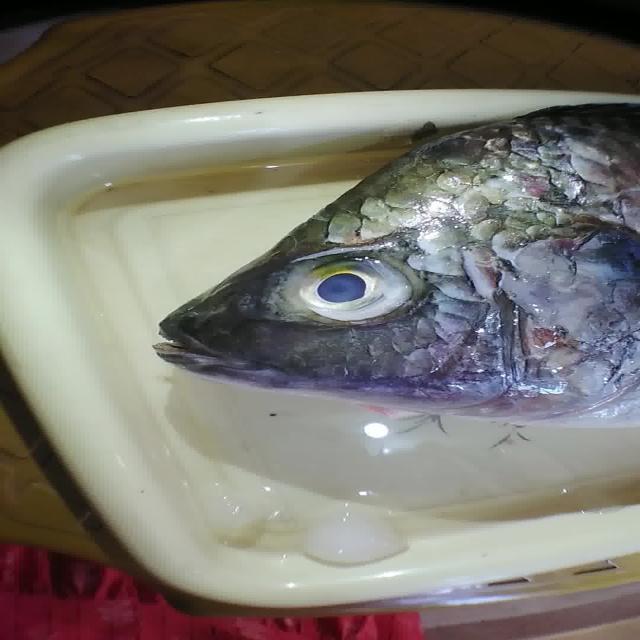Fresh: (274, 251, 428, 330)
